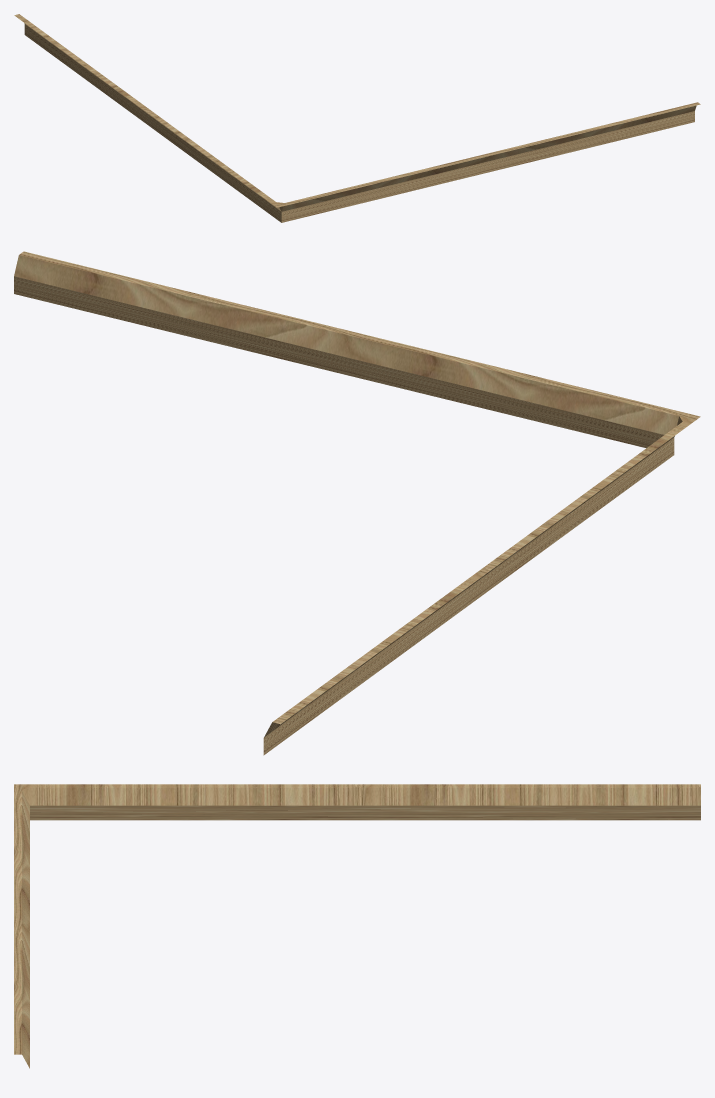
Rendered from SkirtingBoardGroundInnerCornerCustom001.FBX.
The picture shows the model from 3 angles, top to bottom: view 1: azimuth 30°, elevation 25°; view 2: azimuth 150°, elevation 25°; view 3: azimuth 270°, elevation 25°; orthographic projection. The views are drawn at different scales.
Visible parts, largest first — view 1: SkirtingBoardGroundInnerCornerCustom001; view 2: SkirtingBoardGroundInnerCornerCustom001; view 3: SkirtingBoardGroundInnerCornerCustom001.
Part boxes in pixels (x1,y1,x2,y2): SkirtingBoardGroundInnerCornerCustom001: [14, 14, 700, 222]; SkirtingBoardGroundInnerCornerCustom001: [14, 251, 700, 755]; SkirtingBoardGroundInnerCornerCustom001: [14, 784, 700, 1068].
Bounding box in the file's own units: 200 × 10 × 215.
